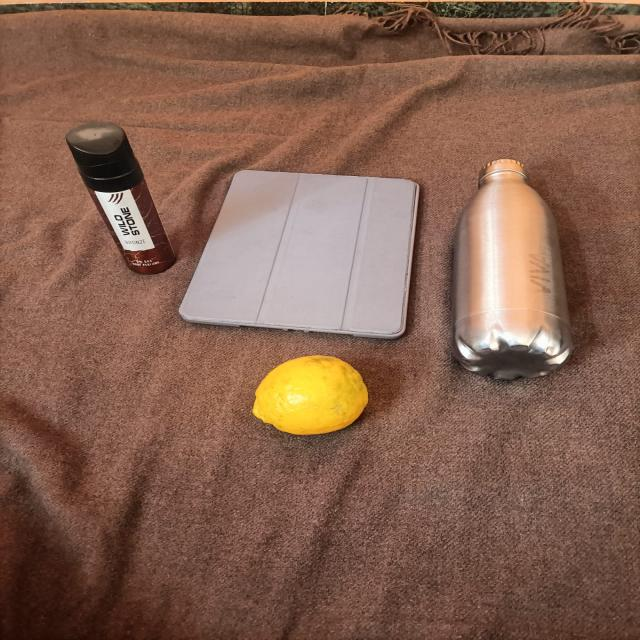bottle: (435, 153, 561, 415)
orange: (236, 354, 391, 449)
spray: (51, 111, 185, 283)
tablet: (185, 144, 420, 351)
